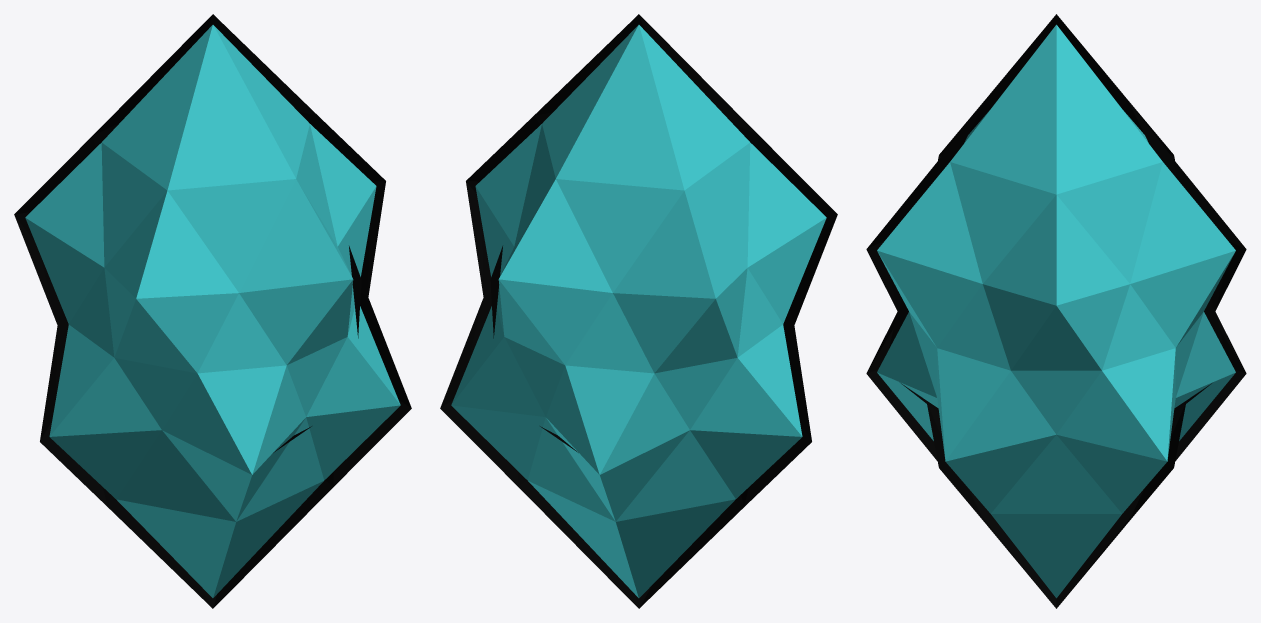
Rendered from mana.fbx.
3 views of the same model, side by side, from view 1: azimuth 30°, elevation 25°; view 2: azimuth 150°, elevation 25°; view 3: azimuth 270°, elevation 25° (orthographic).
Visible parts, largest first — view 1: Mana_big, Mana_big_outline, Mana_small, Mana_small_outline; view 2: Mana_big, Mana_big_outline, Mana_small, Mana_small_outline; view 3: Mana_big, Mana_big_outline, Mana_small, Mana_small_outline.
Boxes of the visible parts, bbox=[...] form: Mana_big: bbox=[25, 25, 400, 597]; Mana_big_outline: bbox=[14, 14, 411, 608]; Mana_small: bbox=[69, 268, 354, 429]; Mana_small_outline: bbox=[41, 227, 384, 452]; Mana_big: bbox=[451, 25, 826, 597]; Mana_big_outline: bbox=[440, 14, 837, 608]; Mana_small: bbox=[497, 268, 782, 429]; Mana_small_outline: bbox=[467, 227, 810, 452]; Mana_big: bbox=[877, 24, 1235, 598]; Mana_big_outline: bbox=[866, 14, 1246, 608]; Mana_small: bbox=[909, 284, 1203, 434]; Mana_small_outline: bbox=[888, 273, 1224, 437].
Size of the model in its own units: 271 by 445 by 258.
